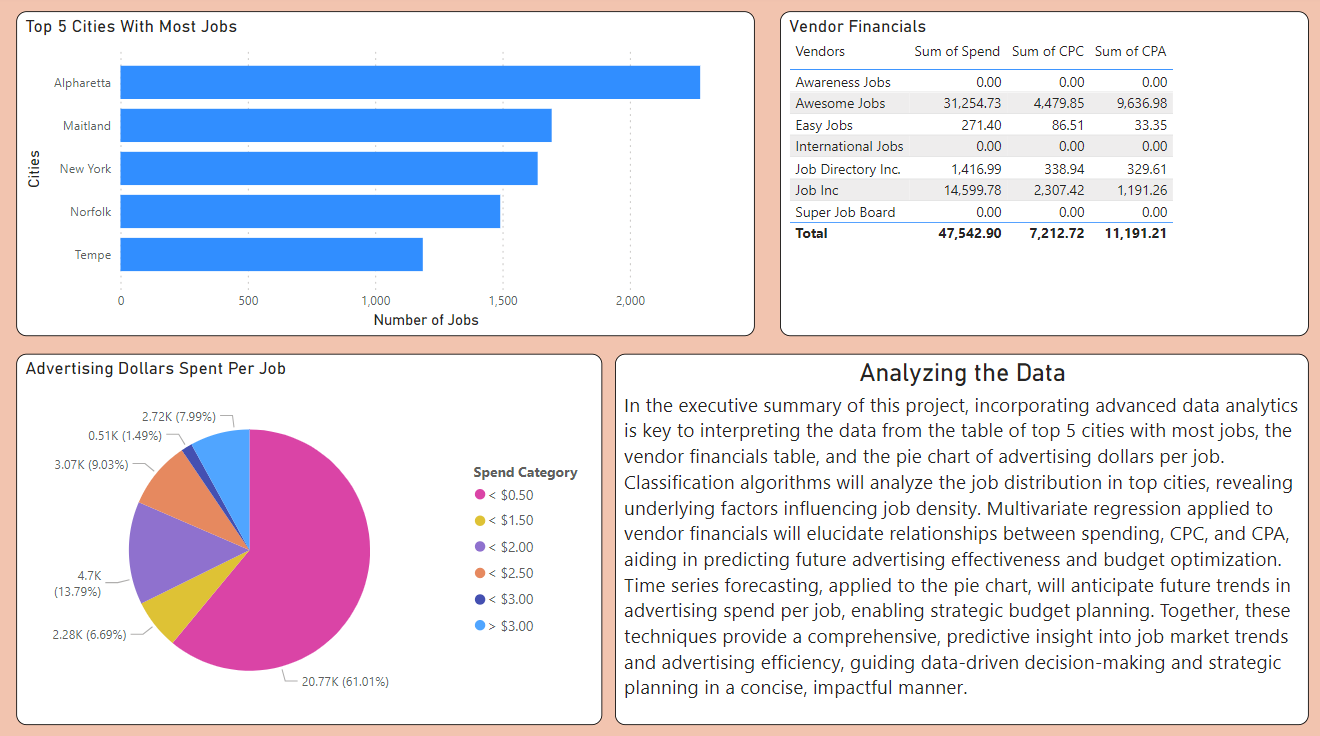

The dashboard page shown, as its layout file describes it:
{"tool":"powerbi","page":{"name":"Executive Summary","canvas":[1280,720],"ordinal":3},"visuals":[{"type":"clusteredBarChart","title":"Top 5 Cities With Most Jobs","fields":{"Category":["Job Cloud Output.City"],"Y":["CountNonNull(Job Cloud Output.Title)"]},"box":[20.5,15.7,712.8,313.6],"z":0},{"type":"pieChart","title":"Advertising Dollars Spent Per Job","fields":{"Category":["Job Cloud Output.Spend Category"],"Y":["CountNonNull(Job Cloud Output.Spend Category)"]},"box":[20.5,346.1,565.6,358.2],"z":1000},{"type":"tableEx","title":"Vendor Financials","fields":{"Values":["Job Cloud Output.Vendors","Sum(Job Cloud Output.Spend)","Sum(Job Cloud Output.CPC)","Sum(Job Cloud Output.CPA)"]},"box":[757.4,15.7,510.2,313.6],"z":2000},{"type":"textbox","title":"Analyzing the Data","box":[598.2,346.1,669.3,358.2],"z":2001}]}

Visuals, with their boxes in screenshot pixels (x1, y1, x2, y2), scaled from the page's 1280x720 canvas onto the 1320x736 screenshot:
"Top 5 Cities With Most Jobs" clusteredBarChart: 21,16,756,337
"Advertising Dollars Spent Per Job" pieChart: 21,354,604,720
"Vendor Financials" tableEx: 781,16,1307,337
"Analyzing the Data" textbox: 617,354,1307,720
